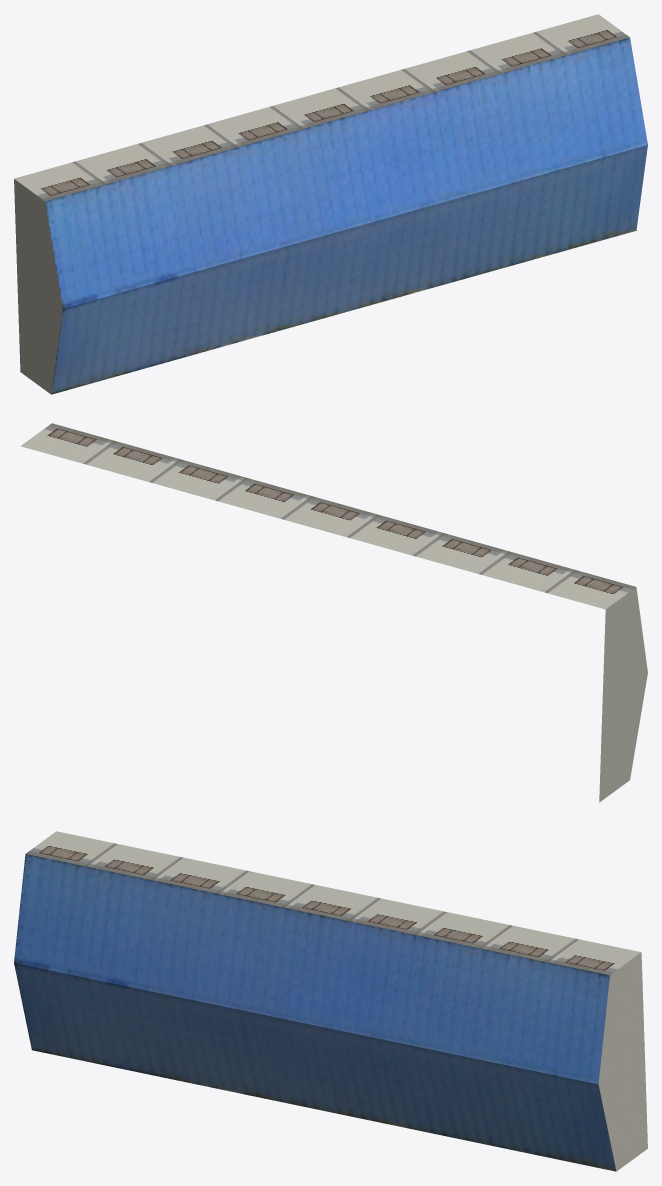
The picture shows the model from 3 angles, top to bottom: view 1: azimuth 30°, elevation 25°; view 2: azimuth 150°, elevation 25°; view 3: azimuth 330°, elevation 25°; orthographic projection.
Visible parts, largest first — view 1: Group_MatrixTransform_i94b010_Geometry_4, Group_MatrixTransform_i94b010_Geometry_3, Group_MatrixTransform_i94b010_Geometry_2; view 2: Group_MatrixTransform_i94b010_Geometry_3, Group_MatrixTransform_i94b010_Geometry_2; view 3: Group_MatrixTransform_i94b010_Geometry_4, Group_MatrixTransform_i94b010_Geometry_3, Group_MatrixTransform_i94b010_Geometry_2.
Boxes of the visible parts, x1=… form: Group_MatrixTransform_i94b010_Geometry_4: x1=45, y1=37, x2=647, y2=394; Group_MatrixTransform_i94b010_Geometry_3: x1=14, y1=14, x2=629, y2=200; Group_MatrixTransform_i94b010_Geometry_2: x1=14, y1=179, x2=62, y2=394; Group_MatrixTransform_i94b010_Geometry_3: x1=21, y1=423, x2=635, y2=609; Group_MatrixTransform_i94b010_Geometry_2: x1=599, y1=587, x2=647, y2=802; Group_MatrixTransform_i94b010_Geometry_4: x1=14, y1=854, x2=616, y2=1171; Group_MatrixTransform_i94b010_Geometry_3: x1=26, y1=831, x2=640, y2=975; Group_MatrixTransform_i94b010_Geometry_2: x1=598, y1=952, x2=647, y2=1171.
Bounding box in the file's own units: 49.51 × 17.29 × 6.71.
5 materials, 5 textured.
